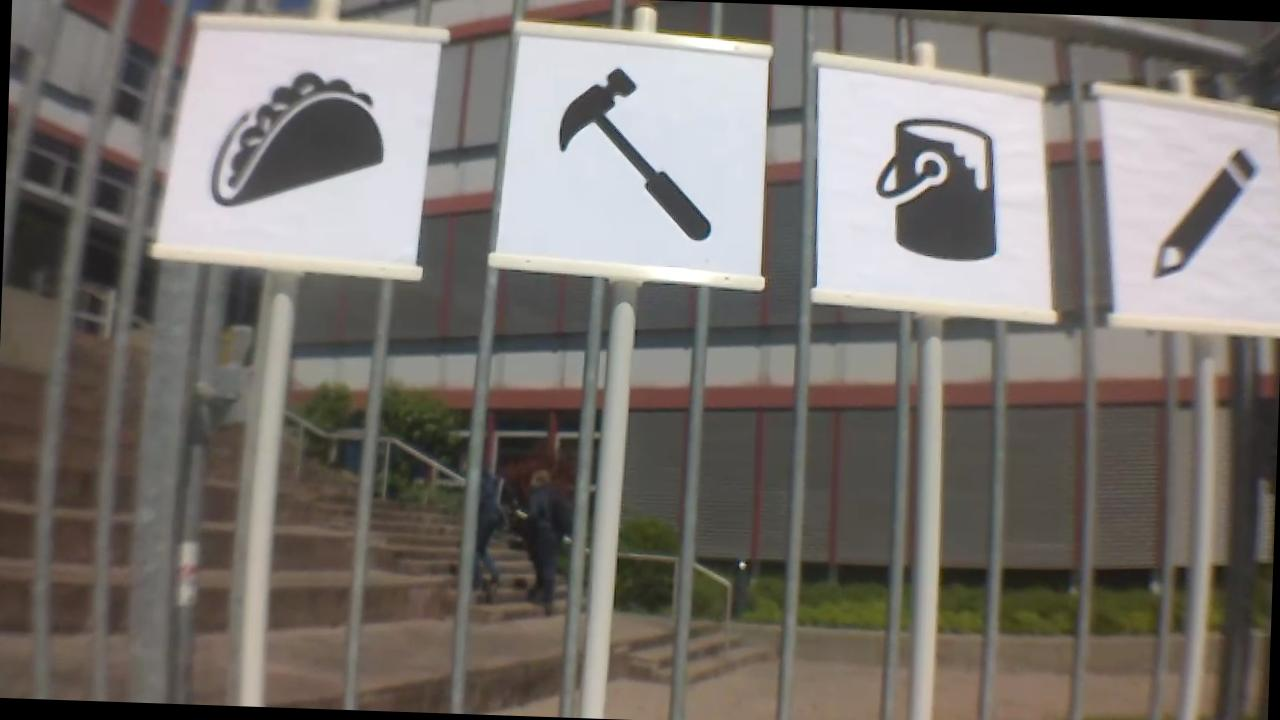bucket: (874, 112, 997, 255)
hammer: (540, 61, 719, 243)
pencil: (1154, 142, 1260, 280)
taco: (213, 78, 394, 210)
